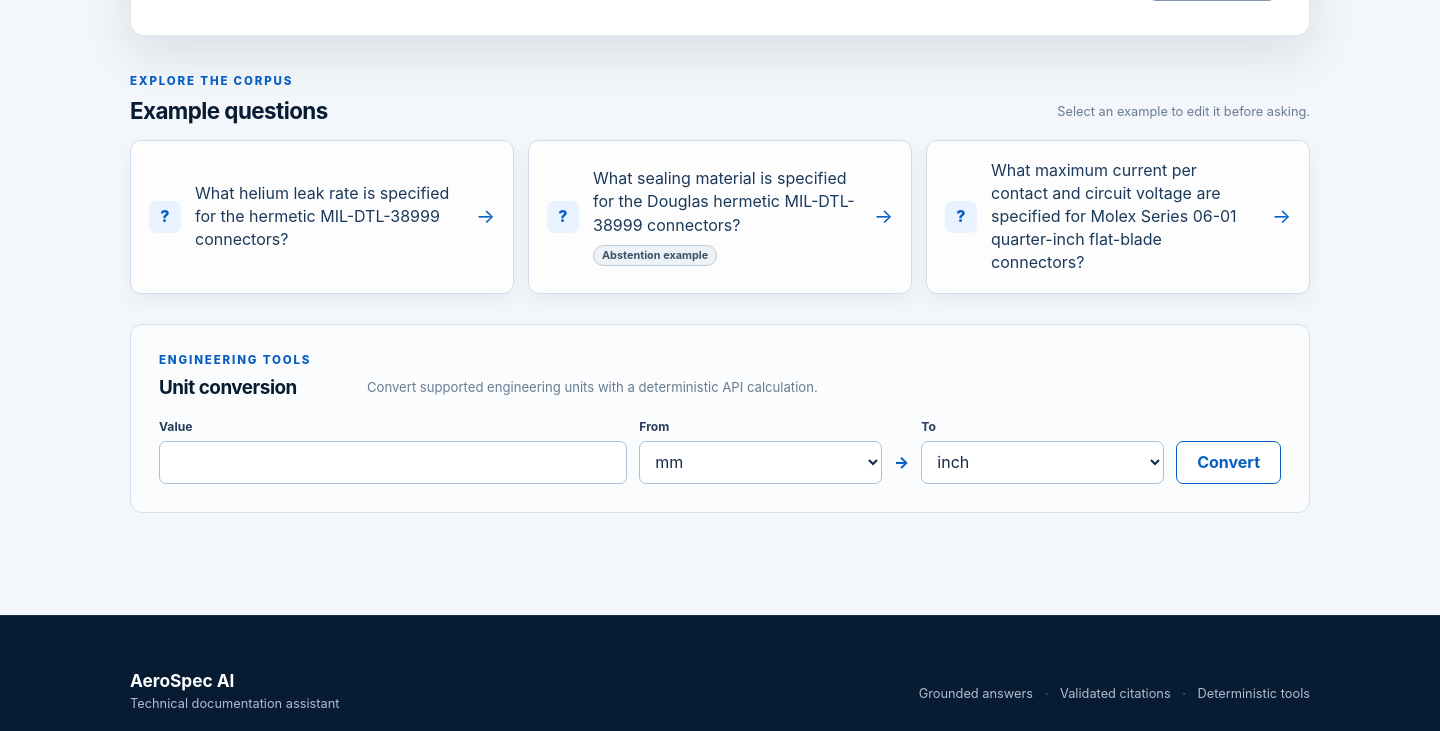
Test: App › convertit une valeur avec les unités sélectionnées et affiche le résultat API
This screenshot has width=1440, height=731.
(page scrolled)
Type "100" into the number field labelled "Value" at coordinates (393, 462), box [159, 441, 627, 484]
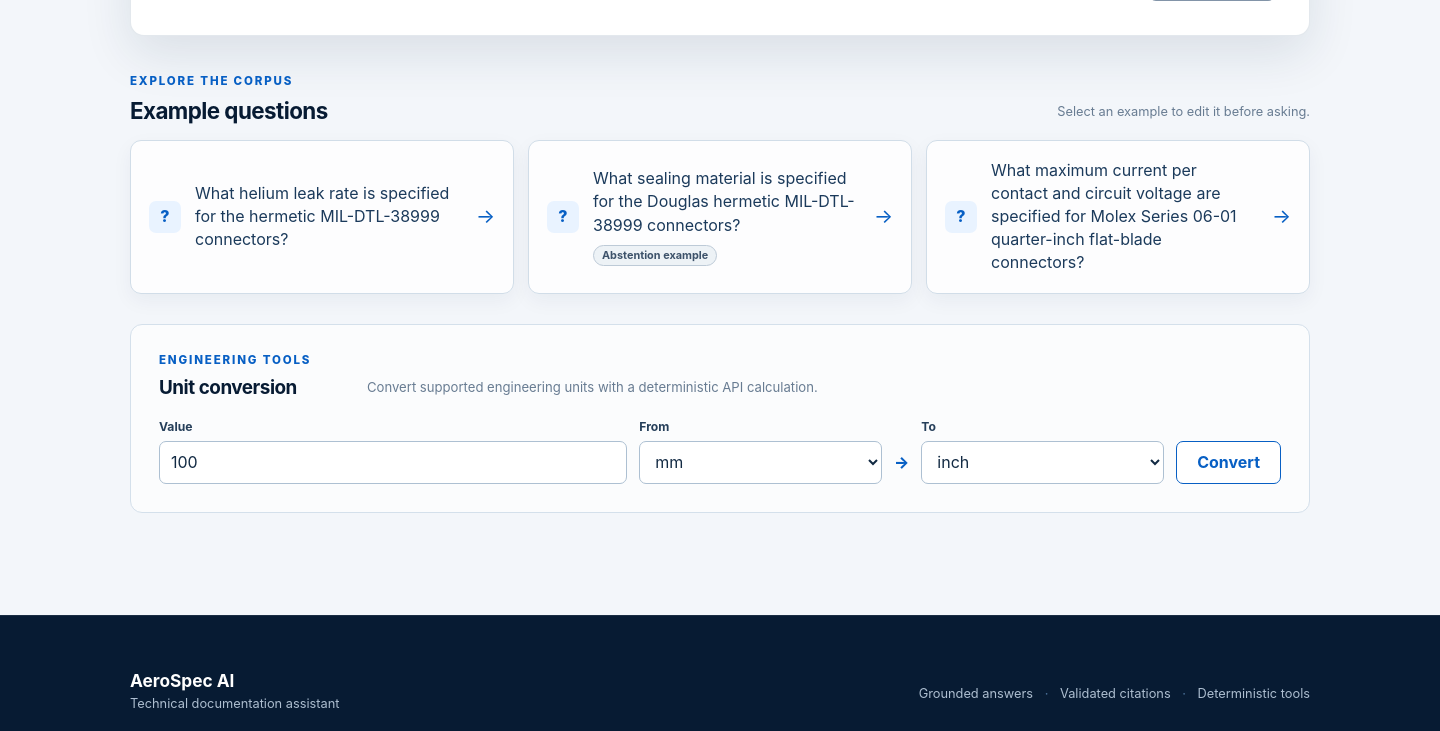
Select "N" in the dropdown labelled "From" at coordinates (761, 462), box [639, 441, 882, 484]
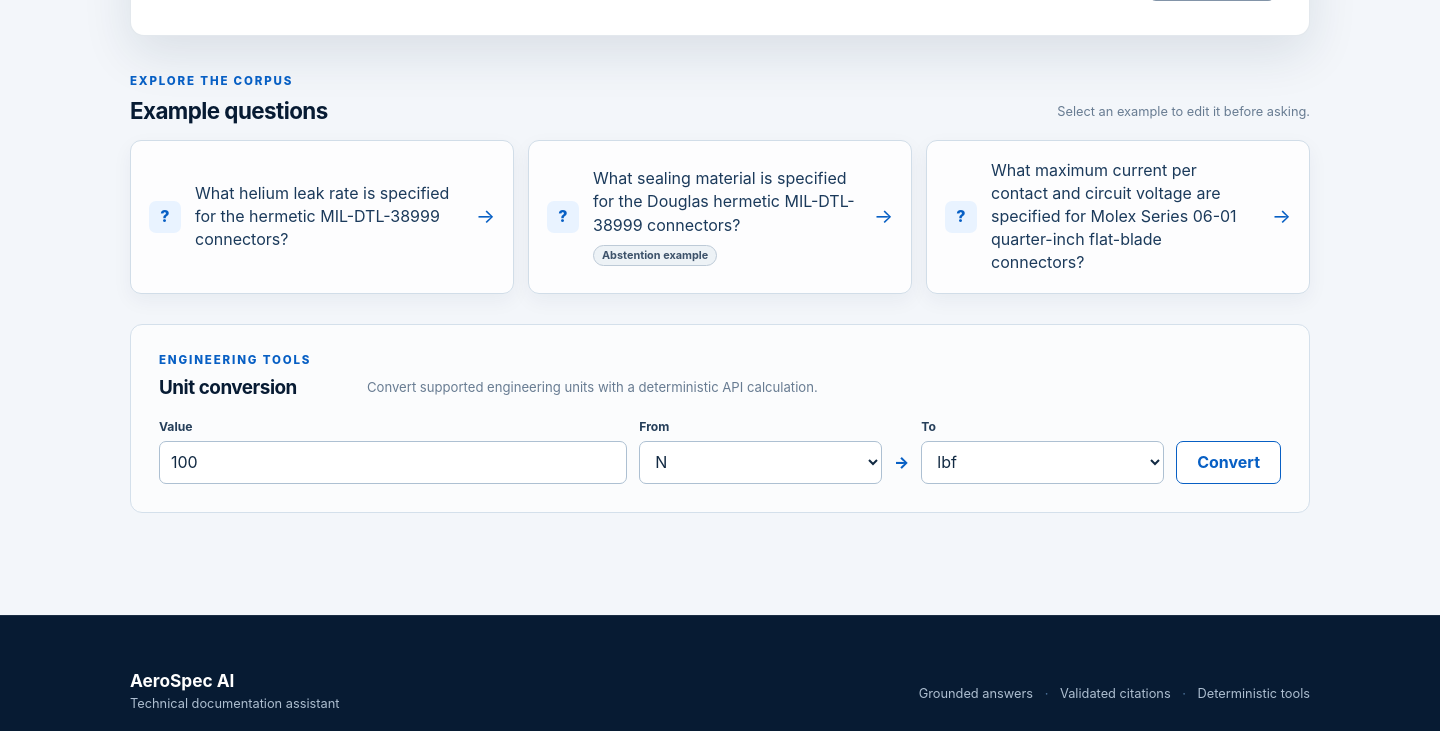
Select "lbf" in the dropdown labelled "To" at coordinates (1043, 462), box [921, 441, 1164, 484]
Click the button "Convert" at coordinates (1229, 462), box [1176, 441, 1281, 484]
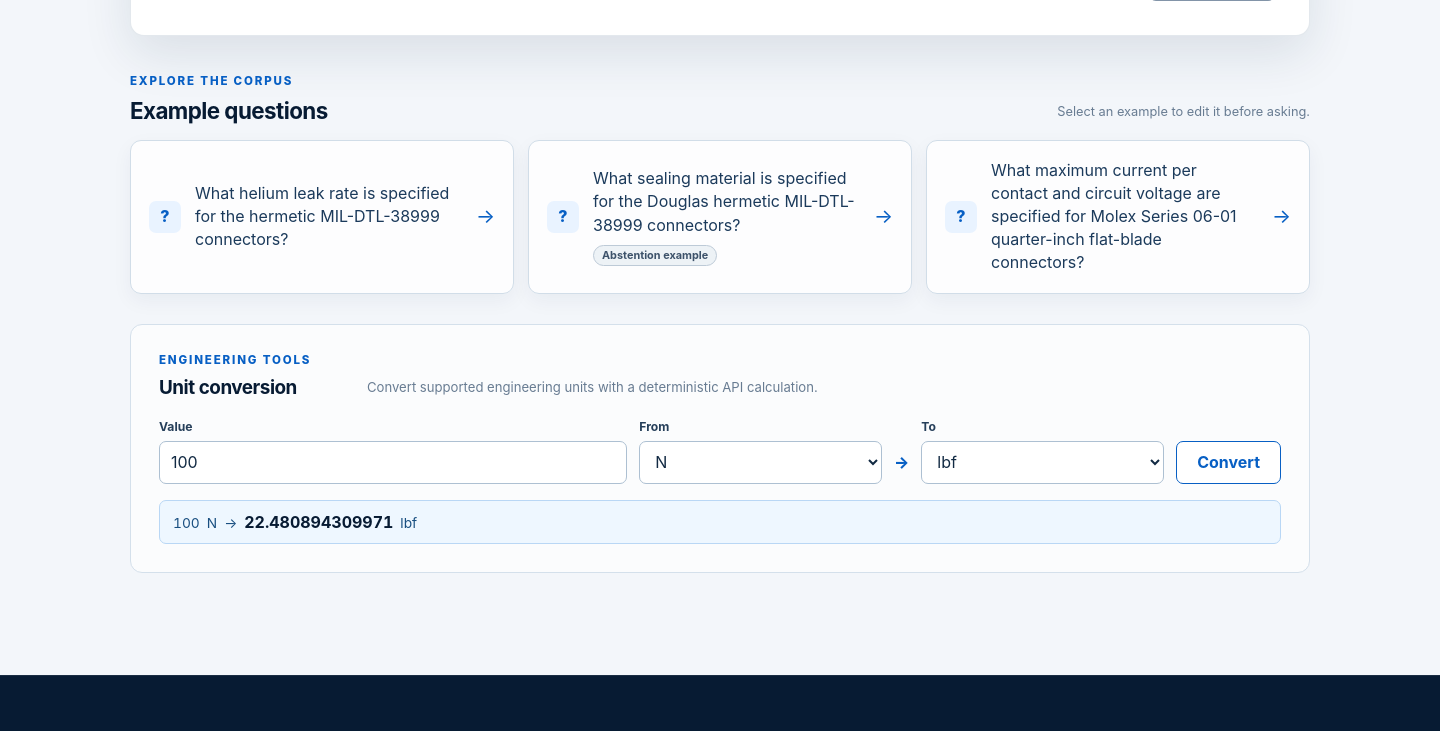
Expected: the message named "Conversion result" reads "100 N → 22.480894309971 lbf", [159, 500, 1281, 544]
